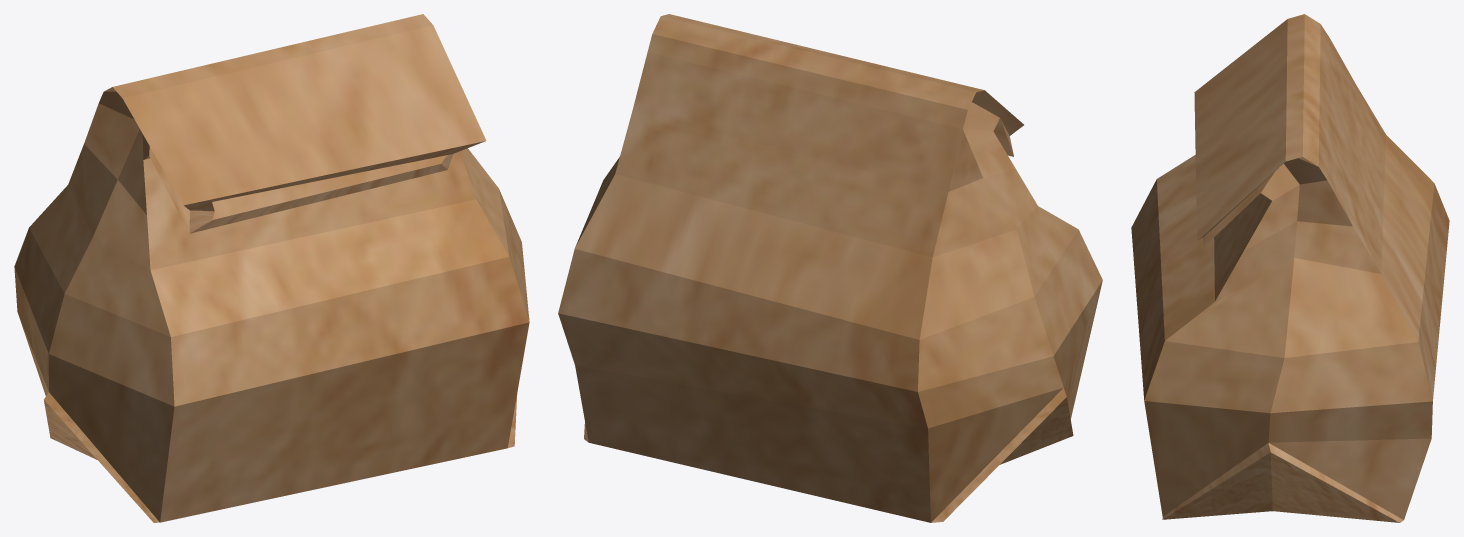
File: SM_Poşet.fbx
3 views of the same model, side by side, from view 1: azimuth 30°, elevation 25°; view 2: azimuth 150°, elevation 25°; view 3: azimuth 270°, elevation 25° (orthographic). The views are drawn at different scales.
Visible parts, largest first — view 1: SM_Order_Package.002; view 2: SM_Order_Package.002; view 3: SM_Order_Package.002.
Boxes of the visible parts, x1,y1,x2,y2 form: SM_Order_Package.002: (14, 14, 529, 522); SM_Order_Package.002: (558, 14, 1102, 522); SM_Order_Package.002: (1131, 14, 1449, 522).
Size of the model in its own units: 122 by 95.15 by 76.45.
